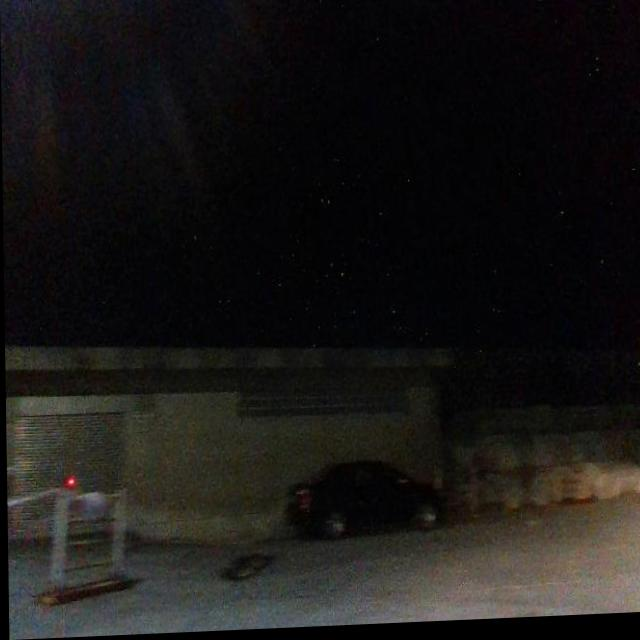pollute: (216, 549, 275, 588)
